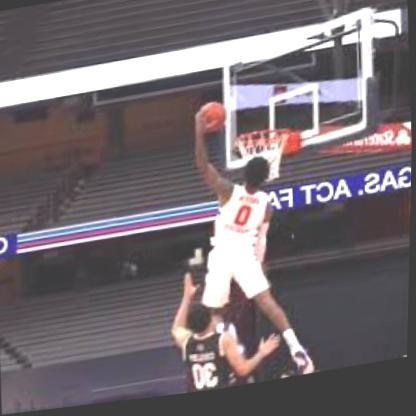basketball: (196, 104, 228, 141)
rim: (232, 131, 290, 156)
